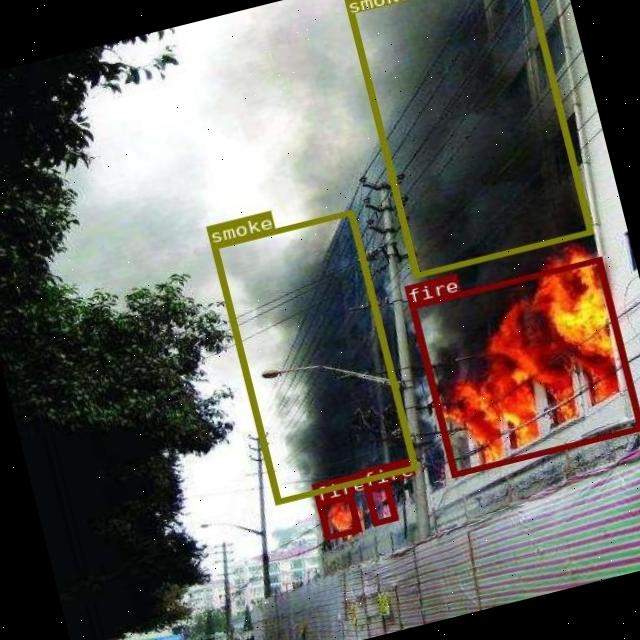fire: (408, 256, 640, 477), (315, 492, 359, 540), (363, 482, 396, 524)
smoke: (342, 0, 592, 277), (210, 210, 416, 503)
